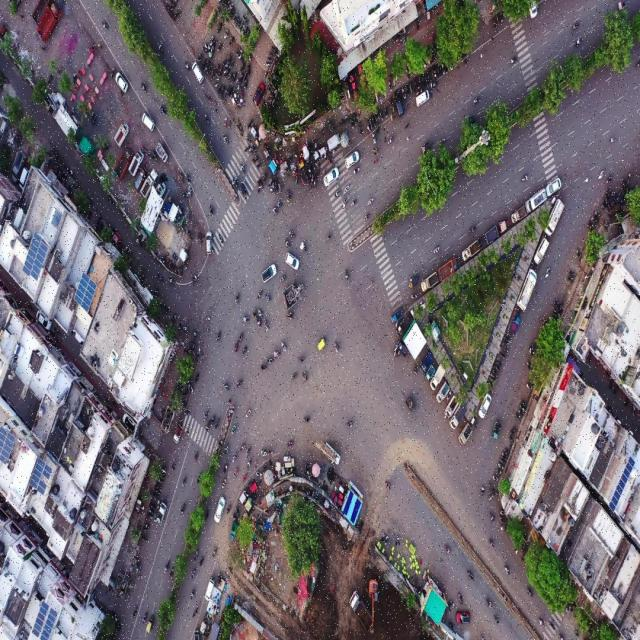3W: (238, 182, 249, 203), (316, 334, 326, 354), (146, 615, 155, 635), (408, 274, 419, 290), (421, 142, 431, 154)
Cars: (259, 263, 278, 283), (284, 253, 303, 273), (213, 496, 226, 524), (534, 238, 548, 264), (323, 167, 340, 187), (478, 393, 491, 419), (252, 80, 265, 106), (115, 72, 129, 93), (343, 150, 359, 168), (204, 230, 214, 258), (546, 178, 561, 196), (142, 113, 156, 132), (393, 90, 403, 116), (415, 90, 429, 108), (454, 611, 473, 624), (204, 578, 214, 601), (191, 64, 202, 83)
LCV: (518, 270, 537, 312), (545, 200, 565, 237), (526, 187, 547, 215), (438, 256, 458, 282), (430, 365, 446, 393), (322, 442, 342, 464), (114, 120, 130, 147), (451, 403, 466, 429), (421, 270, 438, 292), (462, 239, 479, 261), (128, 152, 142, 178), (510, 204, 526, 226), (459, 423, 473, 446), (134, 167, 148, 190), (156, 501, 168, 527), (326, 133, 342, 152), (490, 418, 502, 442), (445, 396, 458, 418), (156, 142, 170, 162), (396, 315, 409, 336), (436, 380, 448, 402), (398, 338, 408, 361), (390, 307, 403, 324), (510, 314, 520, 334), (172, 423, 182, 443), (421, 353, 432, 371), (425, 365, 435, 381)
M2W: (488, 510, 496, 526), (230, 176, 239, 190), (366, 195, 375, 208), (180, 500, 187, 516), (617, 0, 626, 12), (443, 543, 452, 555), (223, 382, 231, 395), (141, 610, 147, 627), (139, 83, 148, 94), (223, 442, 230, 456), (163, 559, 170, 573), (334, 188, 341, 202), (598, 168, 605, 182), (493, 613, 500, 627), (223, 133, 230, 147), (244, 408, 252, 420), (244, 444, 250, 460), (192, 549, 200, 561), (342, 184, 350, 196), (486, 598, 494, 610), (230, 423, 237, 436), (203, 509, 210, 522), (333, 340, 340, 353), (457, 592, 464, 605), (208, 204, 215, 217), (158, 42, 165, 55), (525, 359, 532, 372), (193, 372, 200, 385), (471, 96, 480, 106), (138, 534, 148, 543), (570, 21, 578, 32), (466, 570, 474, 581), (202, 114, 210, 125), (159, 105, 167, 116), (236, 378, 243, 390), (231, 451, 238, 463), (232, 465, 238, 479), (191, 565, 197, 579), (168, 565, 174, 579), (192, 450, 198, 464), (216, 329, 222, 343), (234, 292, 240, 306), (371, 131, 377, 145), (488, 538, 495, 550), (544, 266, 550, 280), (261, 171, 268, 183), (188, 228, 194, 242), (259, 363, 268, 372), (203, 407, 208, 423), (343, 196, 348, 212), (362, 213, 370, 223), (509, 56, 517, 66), (574, 37, 582, 47), (282, 240, 292, 248), (526, 588, 534, 598), (242, 146, 250, 156), (204, 420, 210, 433), (246, 458, 252, 471), (132, 606, 138, 619), (238, 330, 244, 343), (263, 319, 269, 332), (109, 66, 115, 79), (576, 248, 582, 261), (216, 21, 222, 34), (228, 36, 234, 49), (209, 70, 215, 83), (273, 349, 280, 360), (606, 173, 613, 184), (504, 565, 511, 576), (548, 619, 555, 630), (448, 619, 455, 630), (344, 268, 349, 283), (421, 76, 426, 91), (401, 86, 406, 101), (223, 463, 229, 475), (221, 477, 227, 489), (198, 556, 204, 568), (190, 588, 196, 600), (281, 341, 287, 353), (243, 313, 249, 325), (256, 289, 262, 301), (280, 272, 286, 284), (438, 137, 446, 146), (468, 226, 477, 234), (410, 292, 418, 301), (288, 230, 296, 239), (218, 233, 224, 245), (538, 616, 544, 628), (509, 426, 517, 435), (508, 434, 514, 446), (140, 147, 149, 155), (246, 118, 252, 130), (167, 278, 176, 286), (286, 310, 293, 320), (350, 199, 357, 209), (521, 174, 528, 184), (433, 246, 440, 256), (184, 62, 191, 72), (101, 21, 108, 31), (594, 209, 599, 223), (491, 17, 496, 31), (388, 96, 393, 110), (413, 363, 417, 380), (240, 442, 246, 453), (387, 136, 393, 147), (478, 235, 484, 246), (385, 480, 391, 491), (223, 30, 229, 41), (214, 77, 220, 88), (178, 173, 184, 184), (246, 133, 252, 144), (212, 545, 217, 558), (586, 219, 591, 232), (413, 79, 418, 92), (353, 115, 358, 128), (379, 108, 384, 121), (264, 294, 272, 302), (566, 276, 574, 284), (298, 356, 305, 365), (353, 167, 360, 176), (492, 474, 499, 483), (552, 310, 559, 319), (216, 7, 223, 16), (181, 477, 186, 489), (234, 340, 239, 352), (242, 346, 248, 356), (302, 372, 308, 382), (258, 307, 263, 319), (326, 232, 332, 242), (272, 205, 278, 215), (240, 165, 246, 175), (299, 176, 305, 186), (381, 532, 386, 544), (514, 413, 520, 423), (557, 301, 562, 313), (591, 214, 596, 226), (349, 118, 354, 130), (152, 150, 157, 162), (217, 42, 223, 52), (217, 84, 222, 96), (91, 115, 96, 127), (246, 64, 252, 74), (240, 62, 245, 74), (243, 79, 248, 91), (307, 166, 312, 178), (212, 413, 216, 427), (252, 307, 256, 321), (276, 200, 283, 208), (494, 359, 502, 366), (569, 270, 576, 278), (384, 104, 388, 118), (376, 106, 380, 120), (173, 11, 180, 19), (240, 70, 244, 84), (232, 70, 236, 84), (278, 180, 282, 194), (156, 272, 163, 280), (552, 298, 557, 309), (89, 110, 94, 121), (238, 49, 243, 60), (305, 174, 310, 185), (502, 346, 508, 355), (499, 352, 505, 361), (197, 54, 203, 63), (145, 514, 154, 520), (72, 72, 76, 85), (440, 65, 444, 78), (405, 85, 409, 98), (376, 122, 380, 135), (358, 125, 362, 138), (236, 79, 240, 92), (187, 185, 191, 198), (186, 172, 190, 185), (267, 358, 274, 365), (304, 417, 311, 424), (431, 82, 438, 89), (215, 417, 219, 429), (496, 469, 502, 477), (496, 15, 500, 27), (436, 67, 440, 79), (425, 76, 429, 88), (418, 78, 422, 90), (388, 81, 392, 93), (210, 34, 214, 46), (203, 46, 209, 54), (216, 64, 220, 76), (149, 502, 155, 510), (142, 526, 150, 532), (500, 12, 504, 23), (227, 53, 231, 64), (230, 58, 234, 69), (228, 72, 232, 83), (294, 175, 298, 186), (227, 503, 231, 514), (236, 506, 240, 517), (261, 450, 267, 457), (525, 383, 532, 389), (498, 463, 504, 470), (501, 452, 508, 458), (503, 340, 509, 347), (491, 369, 497, 376), (409, 82, 412, 96), (372, 114, 375, 128), (204, 42, 210, 49), (160, 467, 167, 473), (153, 492, 159, 499), (385, 535, 389, 545), (212, 39, 216, 49), (202, 58, 206, 68), (221, 85, 225, 95), (442, 63, 445, 76), (256, 472, 262, 478), (506, 332, 512, 338), (369, 118, 372, 130), (275, 180, 278, 192), (518, 409, 523, 416), (232, 514, 237, 521), (431, 69, 434, 80), (428, 74, 431, 85), (220, 68, 223, 78)
Truck: (349, 590, 375, 631), (34, 3, 60, 42), (113, 146, 133, 180), (300, 242, 307, 252)
